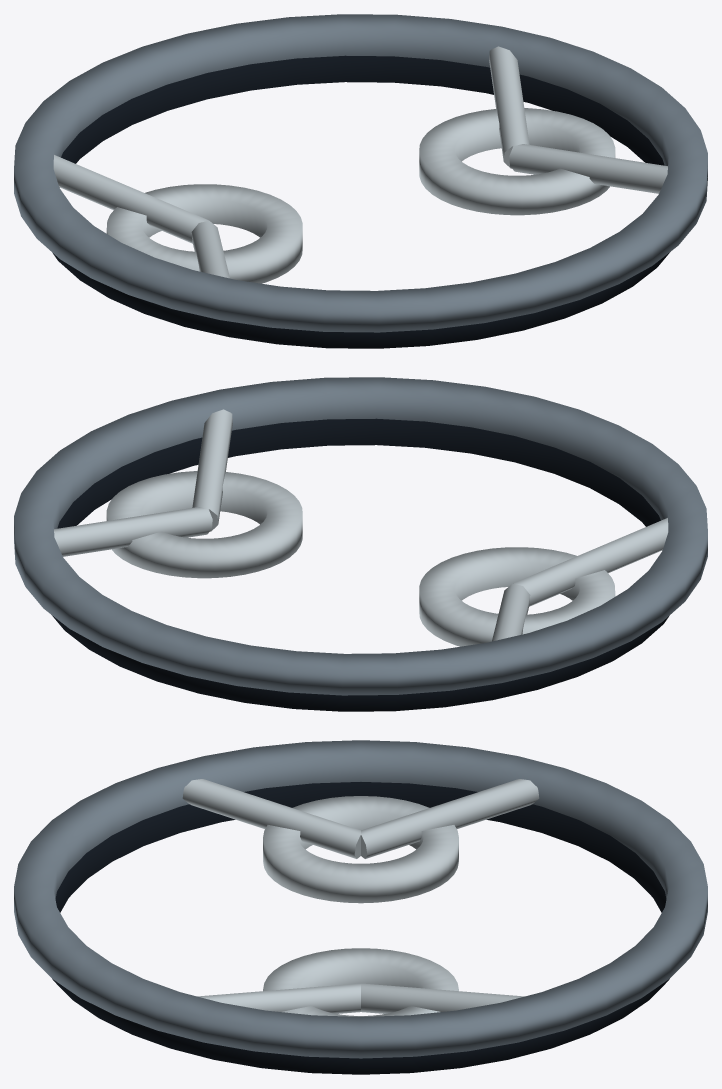
File: titan_centaur_engine_frame.glb
The picture shows the model from 3 angles, top to bottom: view 1: azimuth 30°, elevation 25°; view 2: azimuth 150°, elevation 25°; view 3: azimuth 270°, elevation 25°; orthographic projection.
Visible parts, largest first — view 1: titan_centaur_engine_frame.mesh_Machined_steel, titan_centaur_engine_frame.mesh_Satin_aluminum, titan_centaur_engine_frame.mesh_Shadowed_interior; view 2: titan_centaur_engine_frame.mesh_Machined_steel, titan_centaur_engine_frame.mesh_Satin_aluminum, titan_centaur_engine_frame.mesh_Shadowed_interior; view 3: titan_centaur_engine_frame.mesh_Machined_steel, titan_centaur_engine_frame.mesh_Satin_aluminum, titan_centaur_engine_frame.mesh_Shadowed_interior.
Boxes of the visible parts, x1=… form: titan_centaur_engine_frame.mesh_Machined_steel: x1=14, y1=14, x2=707, y2=332; titan_centaur_engine_frame.mesh_Satin_aluminum: x1=53, y1=46, x2=667, y2=283; titan_centaur_engine_frame.mesh_Shadowed_interior: x1=53, y1=55, x2=669, y2=348; titan_centaur_engine_frame.mesh_Machined_steel: x1=14, y1=377, x2=707, y2=695; titan_centaur_engine_frame.mesh_Satin_aluminum: x1=54, y1=409, x2=668, y2=646; titan_centaur_engine_frame.mesh_Shadowed_interior: x1=52, y1=418, x2=668, y2=711; titan_centaur_engine_frame.mesh_Machined_steel: x1=14, y1=740, x2=707, y2=1058; titan_centaur_engine_frame.mesh_Satin_aluminum: x1=182, y1=779, x2=539, y2=1016; titan_centaur_engine_frame.mesh_Shadowed_interior: x1=52, y1=782, x2=669, y2=1074.
Bounding box in the file's own units: 3.03 × 0.246 × 3.03.
